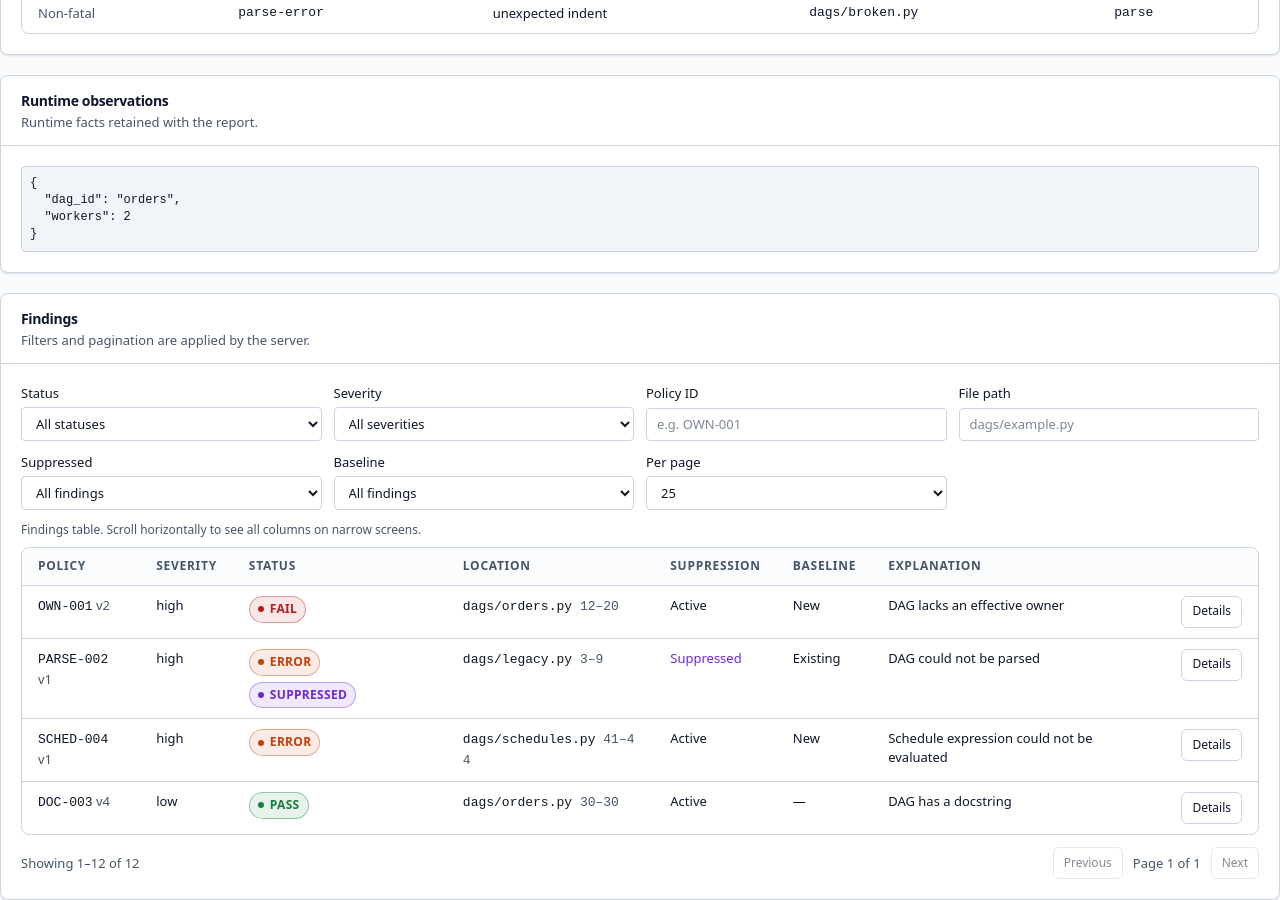
Test case: ScanPage › lists findings with suppression, baseline, and location, and opens a keyboard-accessible detail
(page scrolled)
Expected: the text "OWN-001" is shown, [38,599,93,614]
Click the button "Details" in the row of "PARSE-002" at (1212, 665), box [1181,649,1242,681]
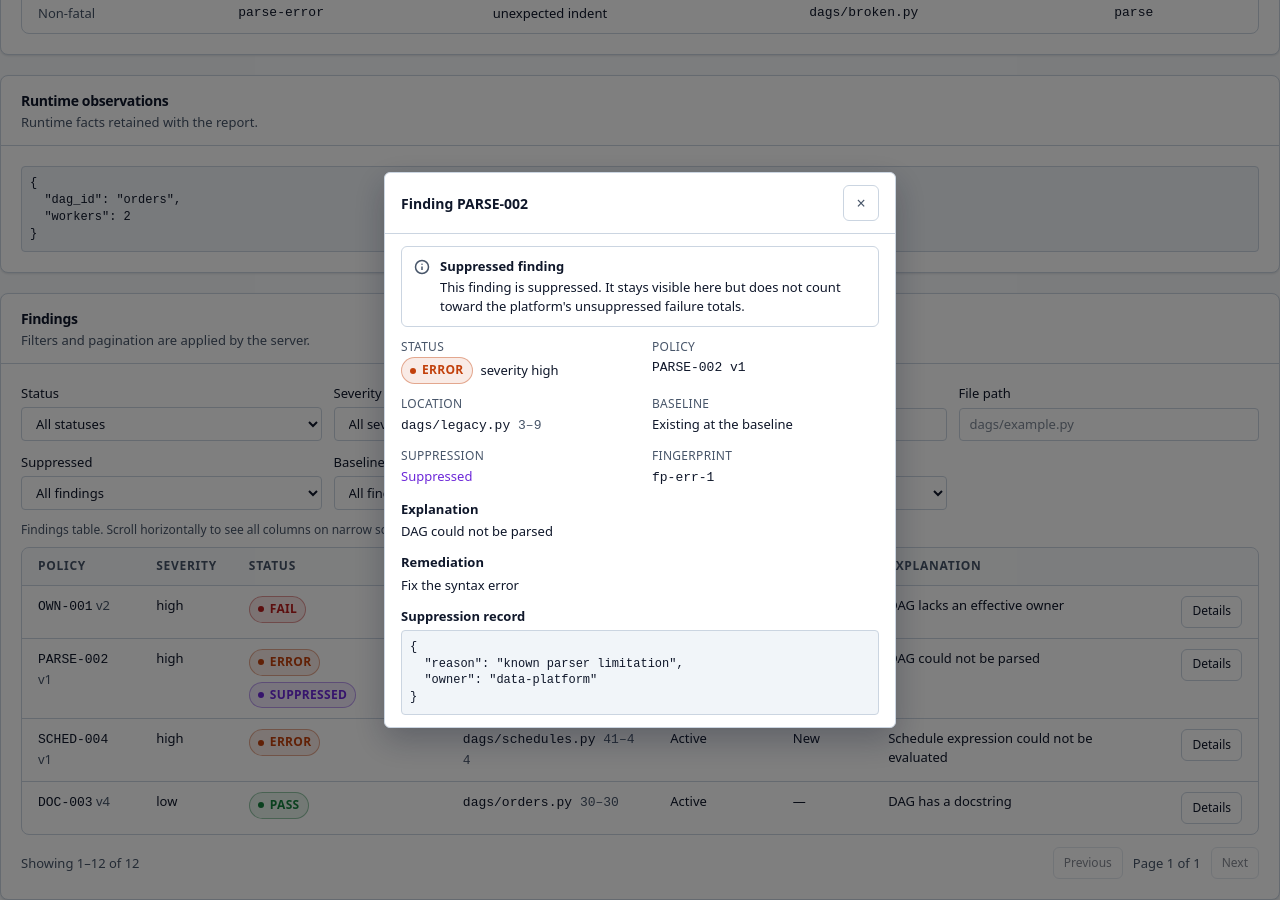
Expected: the text "Suppressed finding" is shown, [440,257,564,275]
Expected: the text "known parser limitation" is shown, [410,640,684,704]
Expected: the text "DAG could not be parsed" is shown, [401,522,553,540]
Press Escape in the dialog, box [384,172,896,728]
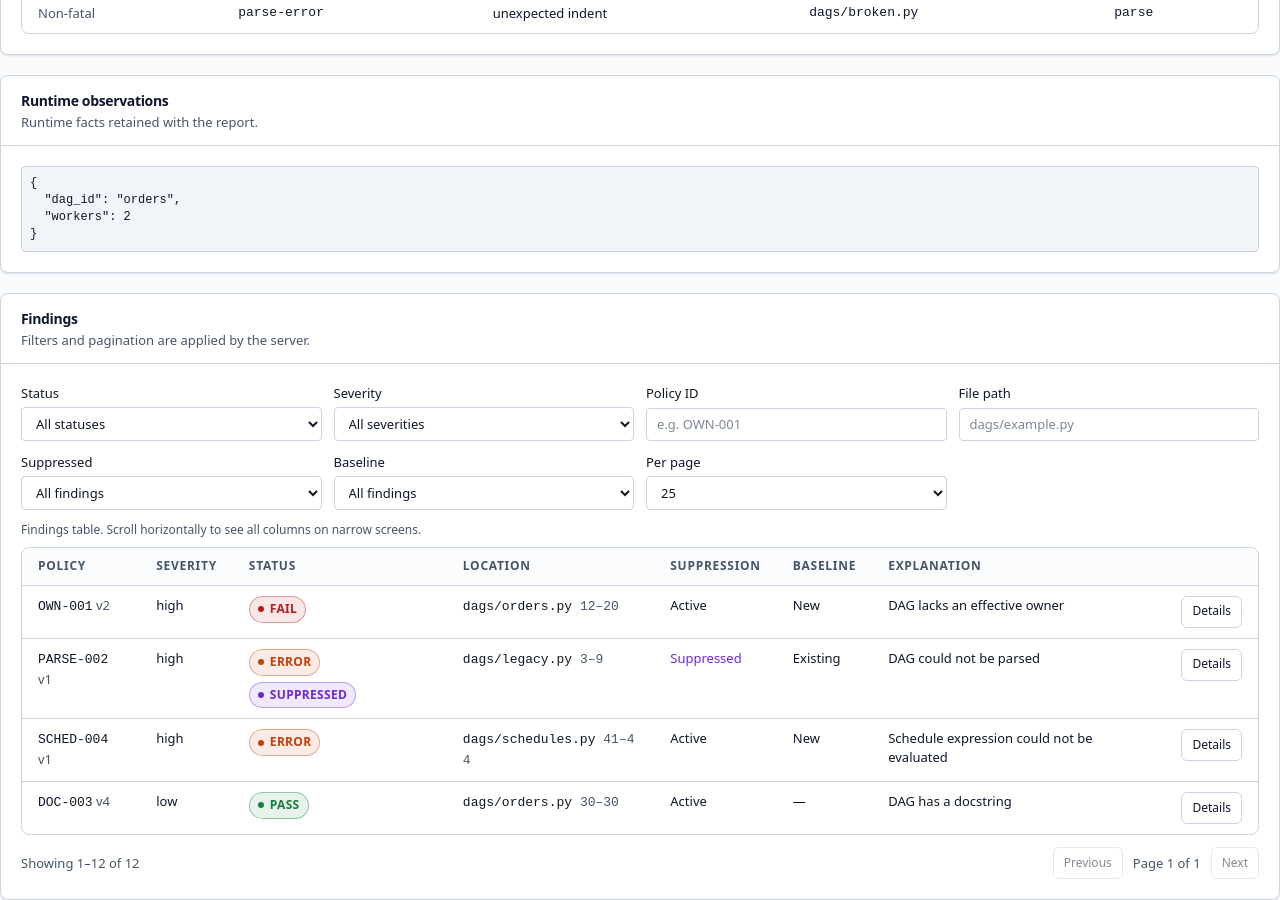
Expected: the dialog is gone
Click the button "Details" in the row of "OWN-001" at (1212, 612), box [1181,596,1242,628]
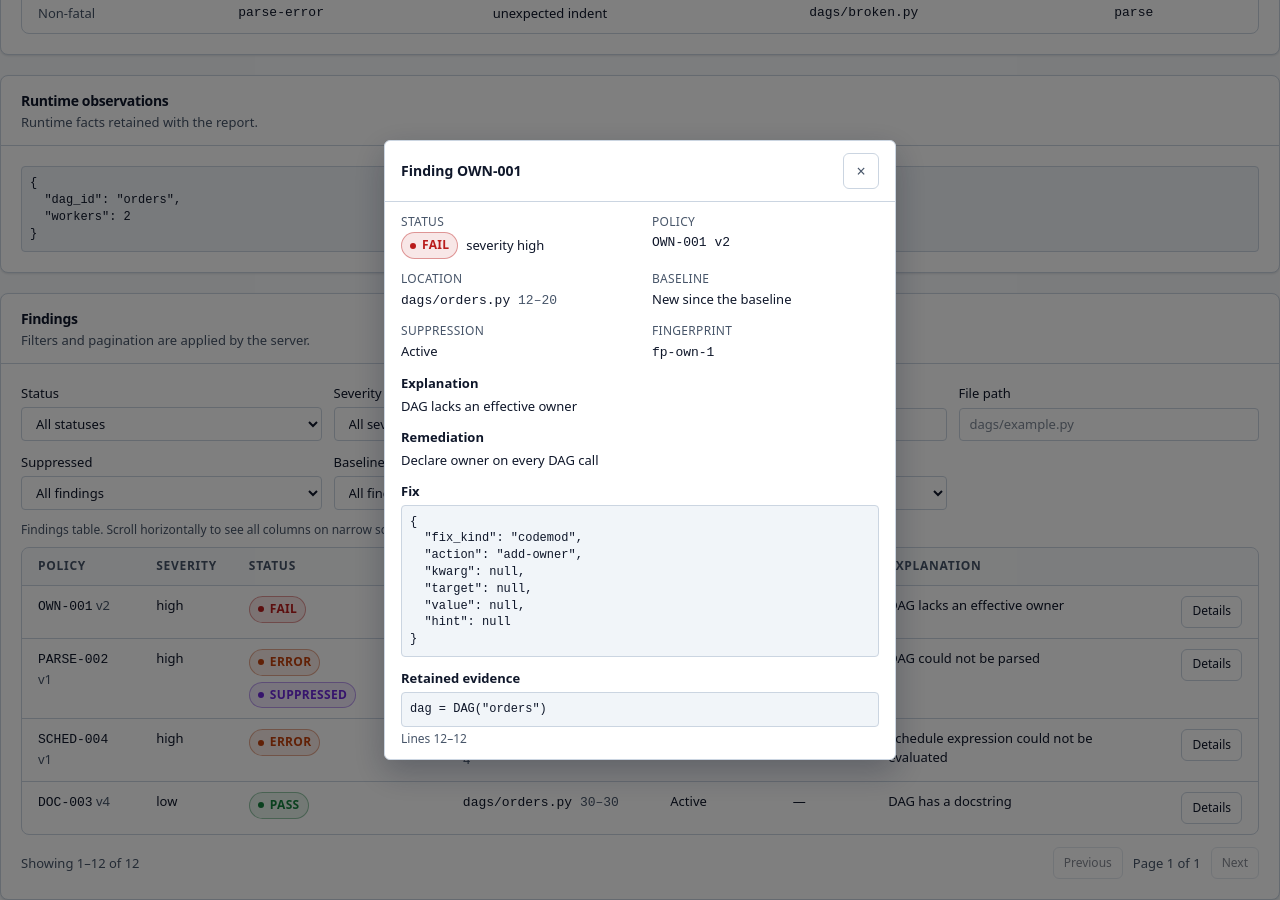
Expected: the text "Declare owner on every DAG call" is shown, [401,451,598,469]
Expected: the heading "Retained evidence" is shown, [401,669,520,687]
Expected: the text "dag = DAG(\"orders\")" is shown, [401,692,879,727]
